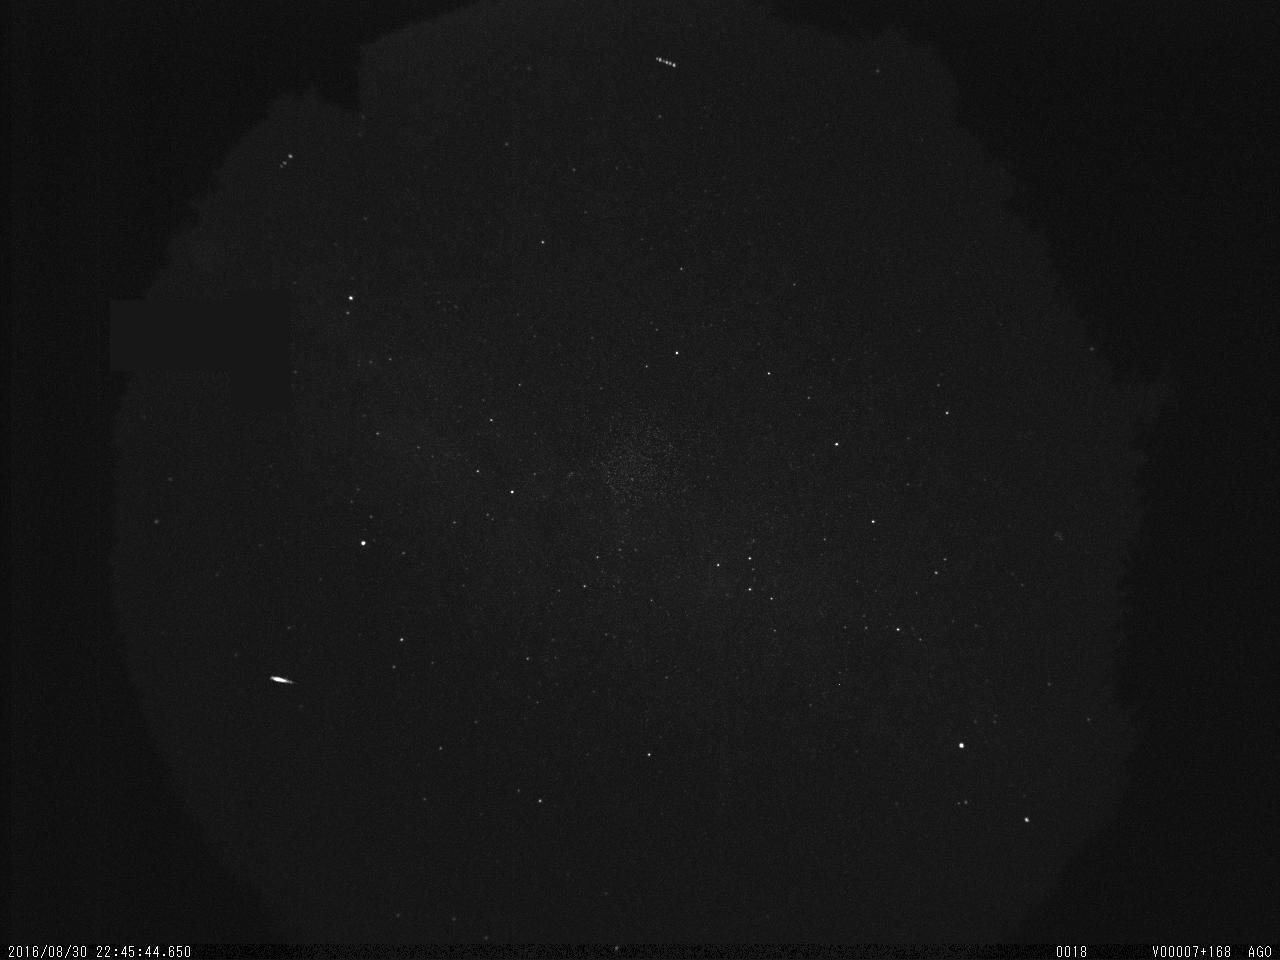Meteor: (267, 673, 295, 686)
